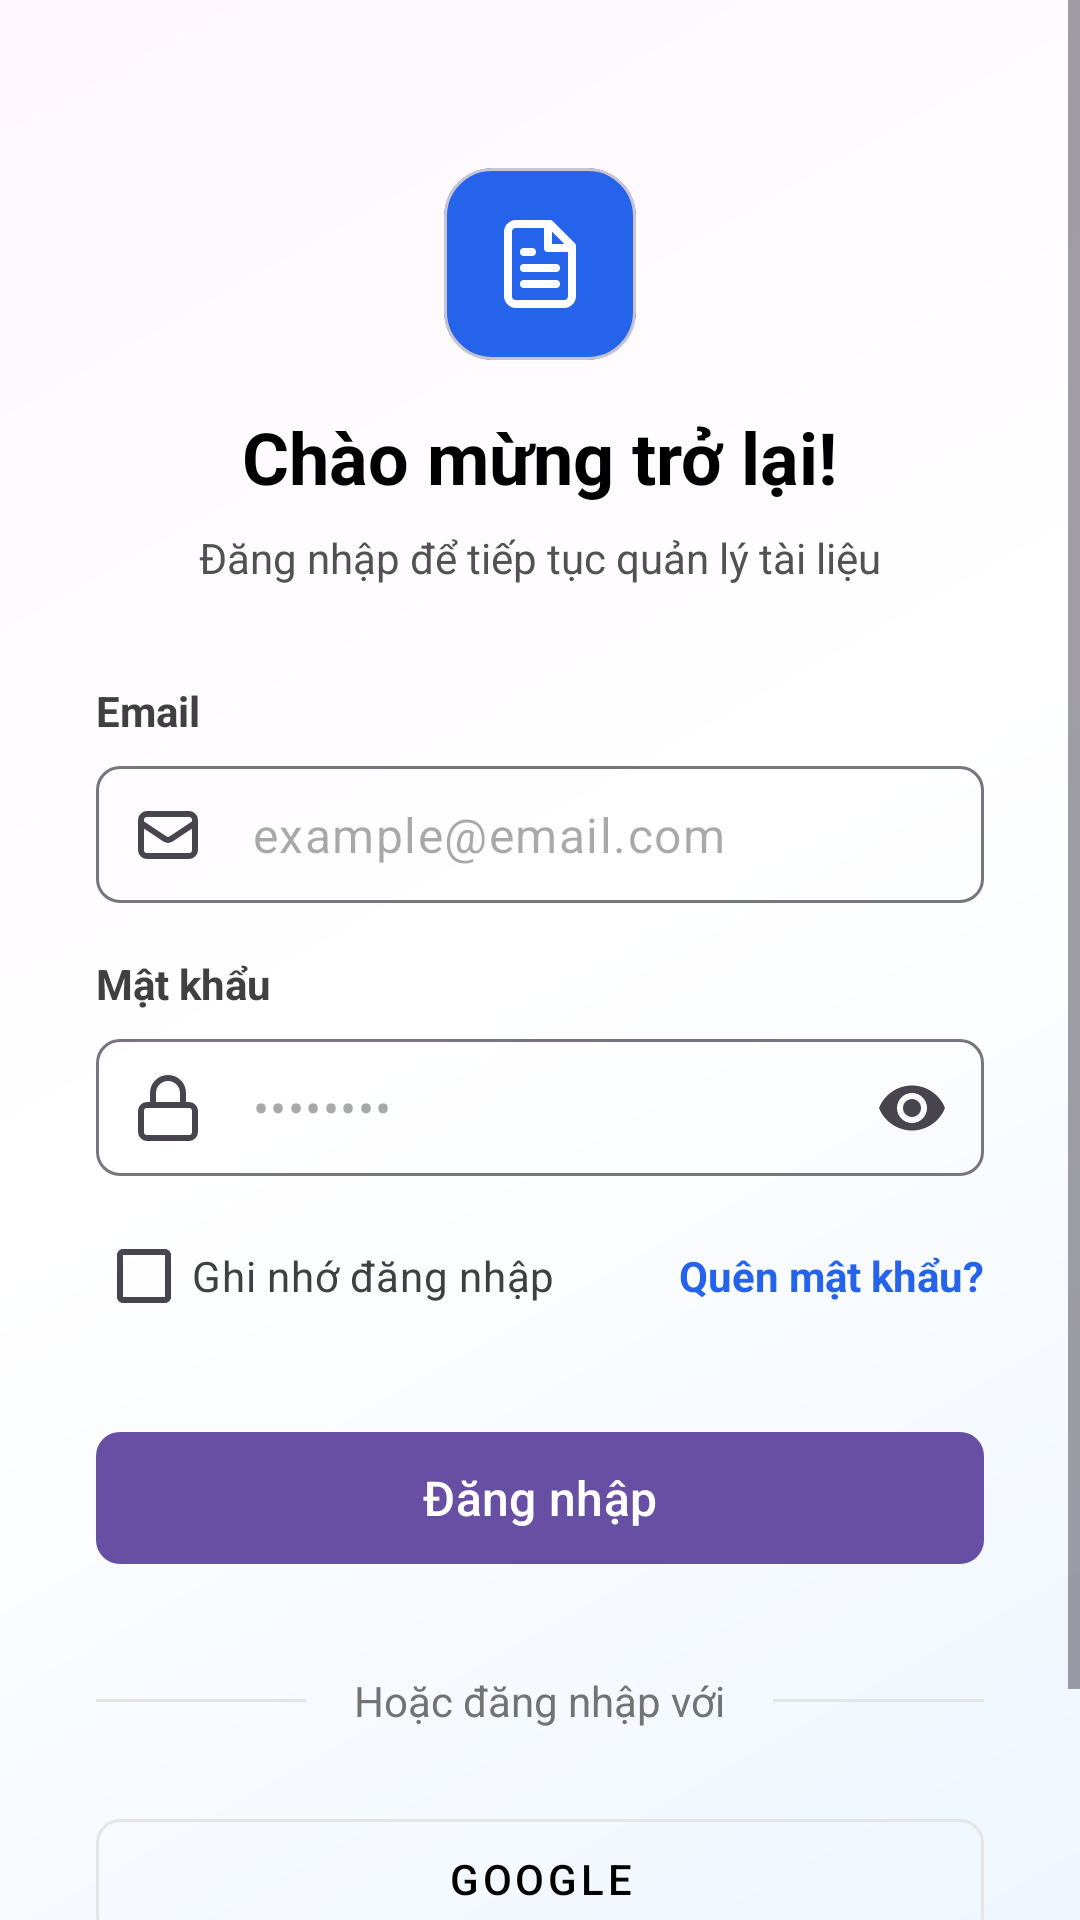

Named icons in this screenshot (1080px x 1920px) and their centers, [x,y]:
file text: [540,264]
